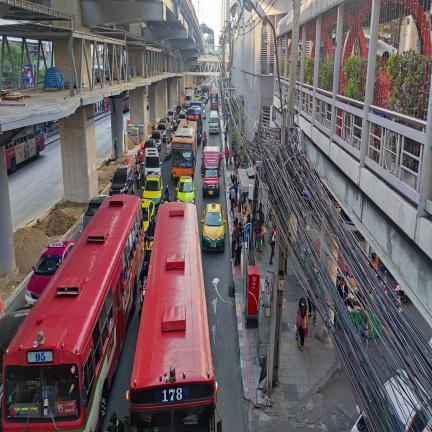bus: (2, 195, 144, 432), (125, 202, 221, 432), (171, 120, 197, 179), (187, 101, 202, 142), (210, 89, 218, 111)
car: (79, 195, 108, 234), (109, 165, 134, 195), (202, 168, 220, 196), (151, 130, 163, 151), (157, 122, 168, 143), (143, 138, 157, 149), (166, 109, 174, 122), (172, 124, 179, 134), (179, 111, 186, 120), (175, 105, 182, 114), (200, 95, 206, 105), (202, 105, 206, 119), (158, 117, 167, 123), (176, 118, 182, 125), (204, 93, 208, 103), (159, 142, 160, 147), (0, 427, 1, 430), (0, 311, 3, 312), (158, 149, 160, 150), (159, 140, 160, 141), (187, 110, 187, 112)
human: (375, 51, 390, 109), (296, 296, 308, 351), (234, 221, 243, 266), (227, 185, 235, 217), (231, 221, 237, 262), (269, 229, 275, 265), (375, 111, 390, 119), (225, 146, 230, 168), (164, 185, 170, 202), (374, 138, 380, 150), (375, 124, 381, 136), (374, 151, 379, 159), (107, 429, 108, 431)
motorbike: (139, 276, 147, 314), (144, 236, 153, 260), (145, 237, 153, 253), (135, 170, 141, 188), (165, 143, 171, 160), (202, 136, 207, 148), (197, 130, 201, 142)
pickup: (201, 146, 222, 196)
taxi: (25, 241, 75, 306), (201, 203, 226, 250), (142, 175, 163, 210), (176, 176, 196, 204), (142, 199, 155, 232), (194, 94, 200, 101)
truck: (185, 89, 194, 107)
van: (144, 148, 161, 179), (209, 110, 220, 133)
